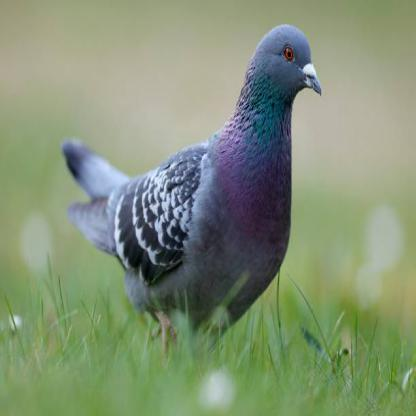Flying Rat: (70, 27, 327, 352)
